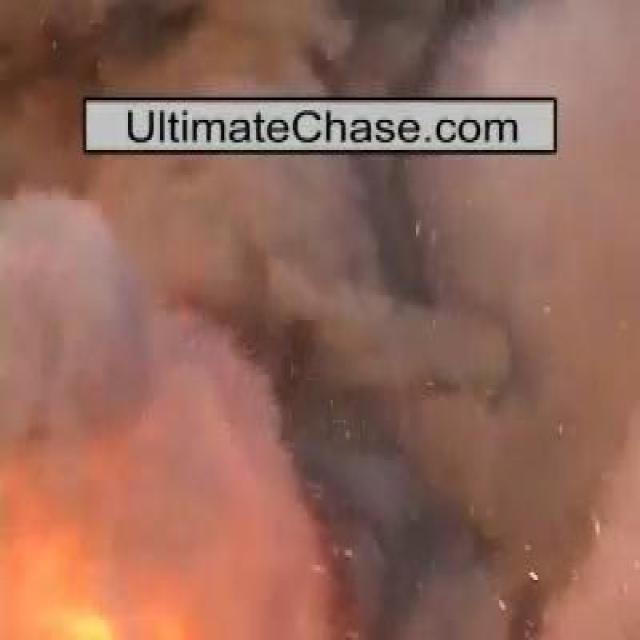Smoke: (25, 166, 575, 552)
